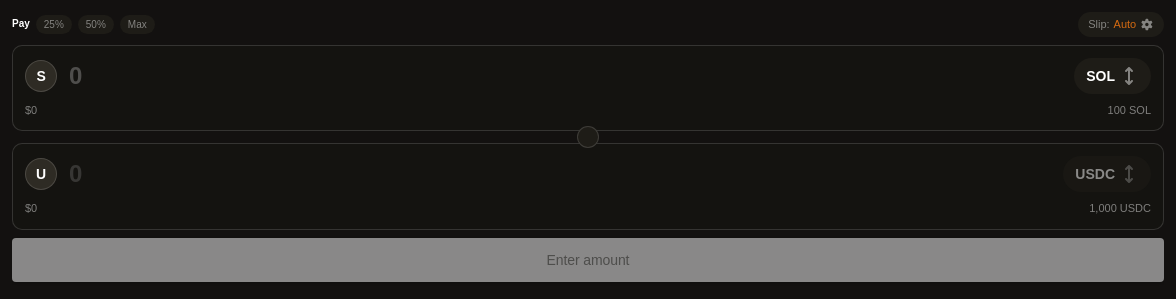
Test: SwapWidget › Validation › should show insufficient balance error
This screenshot has width=1176, height=299.
Type "150" into the field named "enter sol amount" at point(566, 76), box x1=69 y1=60 x2=1062 y2=92
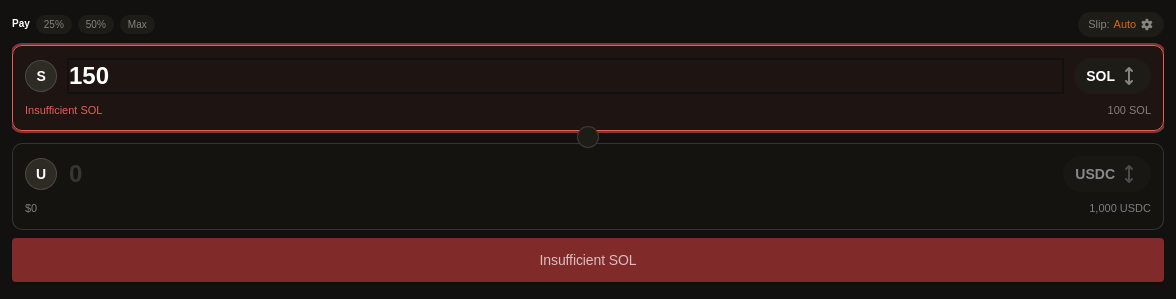
Expected: the text "Insufficient SOL" is shown, x1=25 y1=102 x2=102 y2=118
